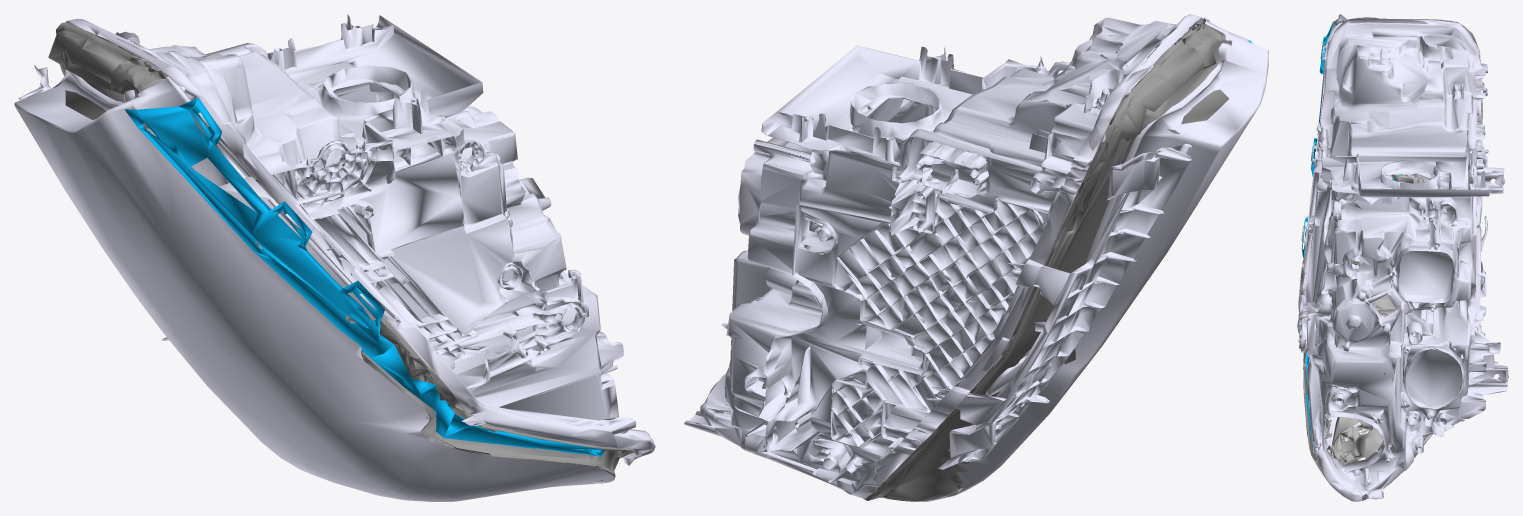
Rendered from series-3-simple-low-lod.glb.
3 views of the same model, side by side, from view 1: azimuth 30°, elevation 25°; view 2: azimuth 150°, elevation 25°; view 3: azimuth 270°, elevation 25° (orthographic). The views are drawn at different scales.
Parts seen in each view (by area): view 1: headlight-simpler, visor, hanger, outer-liner; view 2: headlight-simpler, visor, outer-liner; view 3: headlight-simpler, inner-body, visor, outer-liner, hanger, griddy-thing-case.
Boxes of the visible parts, x1=… form: headlight-simpler: x1=18, y1=14, x2=655, y2=484; visor: x1=14, y1=69, x2=614, y2=501; hanger: x1=125, y1=97, x2=603, y2=456; outer-liner: x1=48, y1=22, x2=638, y2=477; headlight-simpler: x1=684, y1=14, x2=1201, y2=498; visor: x1=919, y1=17, x2=1268, y2=501; outer-liner: x1=841, y1=18, x2=1232, y2=501; headlight-simpler: x1=1297, y1=18, x2=1508, y2=501; inner-body: x1=1327, y1=174, x2=1429, y2=463; visor: x1=1301, y1=14, x2=1392, y2=478; outer-liner: x1=1303, y1=17, x2=1476, y2=491; hanger: x1=1301, y1=21, x2=1334, y2=448; griddy-thing-case: x1=1331, y1=174, x2=1412, y2=464.
Size of the model in its own units: 19.77 by 17.28 by 9.77.
